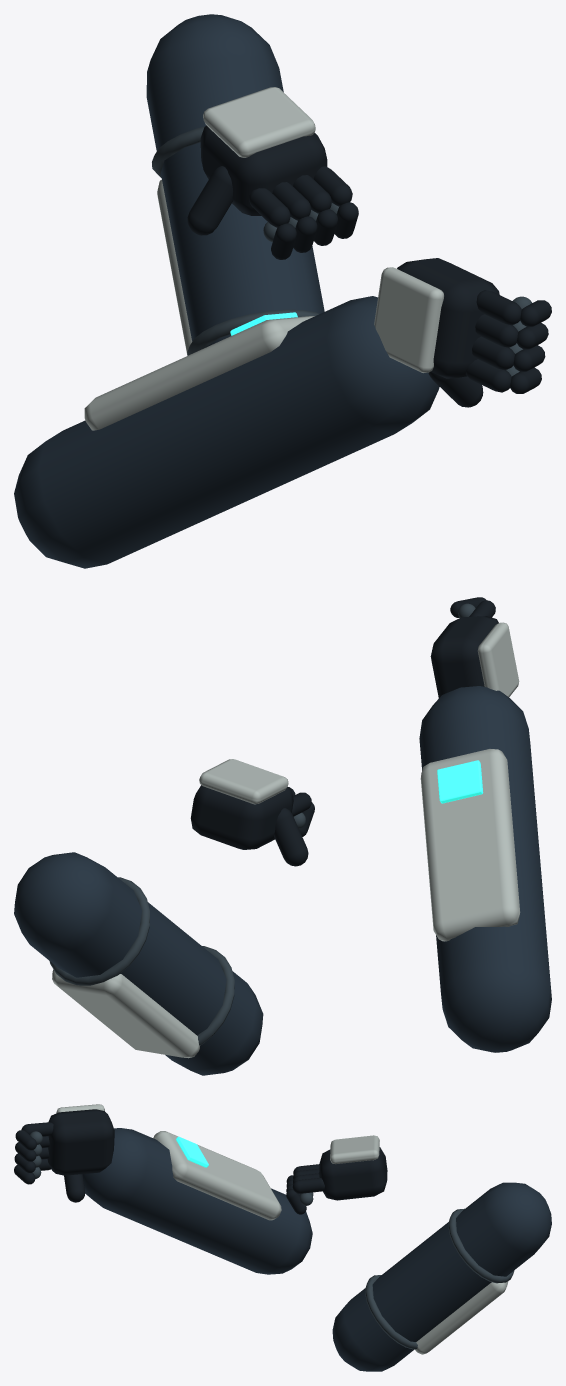
File: operative-arms.glb
3 views of the same model, one above another, from view 1: azimuth 30°, elevation 25°; view 2: azimuth 150°, elevation 25°; view 3: azimuth 270°, elevation 25° (orthographic). The views are drawn at different scales.
Parts seen in each view (by area): view 1: forearm_L / Graphite polymer, forearm_R / Graphite polymer, hand_R / Grip rubber, hand_L / Grip rubber, forearm_L / Ceramic armor, hand_L / Ceramic armor, hand_R / Ceramic armor, forearm_R / Gunmetal, forearm_R / Ceramic armor; view 2: forearm_L / Graphite polymer, forearm_R / Graphite polymer, forearm_L / Ceramic armor, hand_R / Grip rubber, forearm_R / Ceramic armor, hand_L / Grip rubber, forearm_R / Gunmetal, hand_R / Ceramic armor, hand_L / Ceramic armor, forearm_L / Phase emitter; view 3: forearm_R / Graphite polymer, forearm_L / Graphite polymer, hand_L / Grip rubber, forearm_L / Ceramic armor, hand_R / Grip rubber, forearm_R / Ceramic armor, forearm_R / Gunmetal, hand_R / Ceramic armor, forearm_L / Phase emitter.
Boxes of the visible parts, x1=… form: forearm_L / Graphite polymer: x1=14, y1=296, x2=439, y2=568; forearm_R / Graphite polymer: x1=146, y1=14, x2=324, y2=348; hand_R / Grip rubber: x1=187, y1=125, x2=358, y2=259; hand_L / Grip rubber: x1=397, y1=258, x2=551, y2=407; forearm_L / Ceramic armor: x1=84, y1=316, x2=314, y2=430; hand_L / Ceramic armor: x1=374, y1=267, x2=443, y2=372; hand_R / Ceramic armor: x1=203, y1=87, x2=315, y2=157; forearm_R / Gunmetal: x1=152, y1=126, x2=319, y2=355; forearm_R / Ceramic armor: x1=157, y1=179, x2=192, y2=355; forearm_L / Graphite polymer: x1=419, y1=686, x2=551, y2=1052; forearm_R / Graphite polymer: x1=14, y1=852, x2=263, y2=1075; forearm_L / Ceramic armor: x1=420, y1=749, x2=520, y2=941; hand_R / Grip rubber: x1=190, y1=785, x2=314, y2=866; forearm_R / Ceramic armor: x1=52, y1=969, x2=200, y2=1058; hand_L / Grip rubber: x1=430, y1=597, x2=498, y2=698; forearm_R / Gunmetal: x1=49, y1=877, x2=234, y2=1045; hand_R / Ceramic armor: x1=199, y1=759, x2=288, y2=804; hand_L / Ceramic armor: x1=478, y1=622, x2=519, y2=697; forearm_L / Phase emitter: x1=437, y1=760, x2=483, y2=803; forearm_R / Graphite polymer: x1=332, y1=1182, x2=551, y2=1371; forearm_L / Graphite polymer: x1=82, y1=1128, x2=312, y2=1274; hand_L / Grip rubber: x1=14, y1=1109, x2=114, y2=1202; forearm_L / Ceramic armor: x1=153, y1=1131, x2=281, y2=1220; hand_R / Grip rubber: x1=286, y1=1147, x2=387, y2=1214; forearm_R / Ceramic armor: x1=415, y1=1281, x2=508, y2=1354; forearm_R / Gunmetal: x1=365, y1=1208, x2=514, y2=1349; hand_R / Ceramic armor: x1=330, y1=1135, x2=379, y2=1164; forearm_L / Phase emitter: x1=176, y1=1136, x2=208, y2=1167.
Size of the model in its own units: 0.4831 by 0.4032 by 0.8466.
